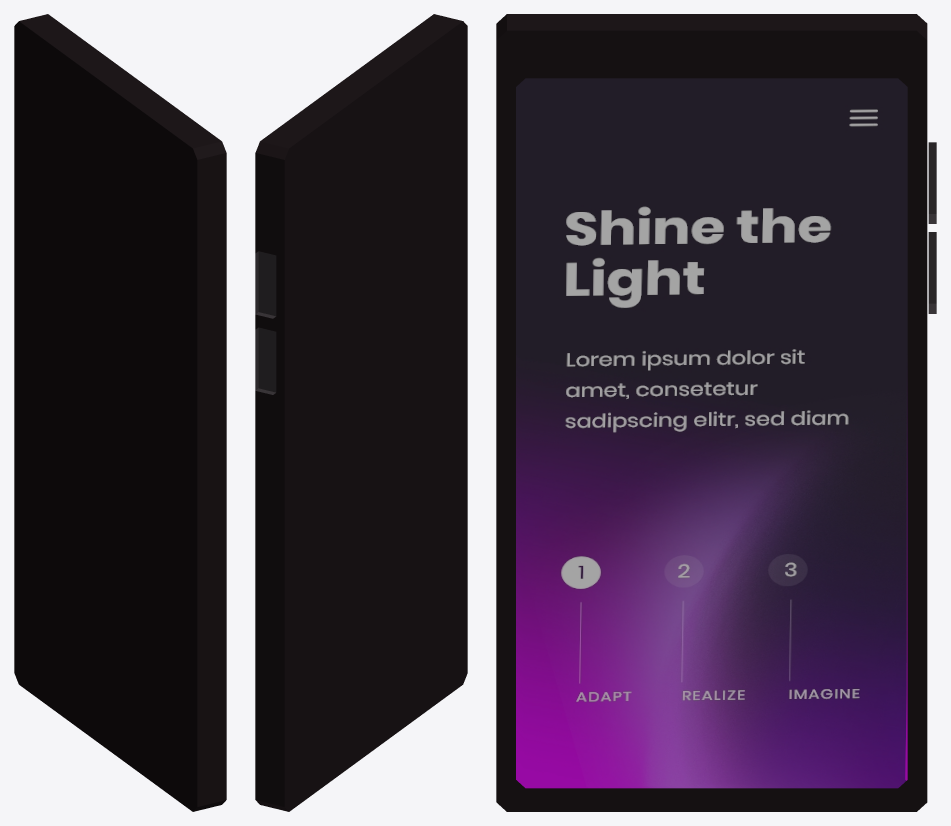
The model's file is iphone.gltf.
3 renders of one model, left to right at view 1: azimuth 30°, elevation 25°; view 2: azimuth 150°, elevation 25°; view 3: azimuth 270°, elevation 25°, orthographic. The views are drawn at different scales.
Parts seen in each view (by area): view 1: phoneBody; view 2: phoneBody, Buttons; view 3: screen, phoneBody, Buttons.
Part boxes in pixels (<box>): phoneBody: <box>14,14,226,811</box>; phoneBody: <box>255,14,467,811</box>; Buttons: <box>255,251,276,394</box>; screen: <box>516,78,907,788</box>; phoneBody: <box>496,14,927,811</box>; Buttons: <box>928,142,936,313</box>.
Size of the model in its own units: 0.1841 by 4 by 2.04.
3 materials, 1 textured.
